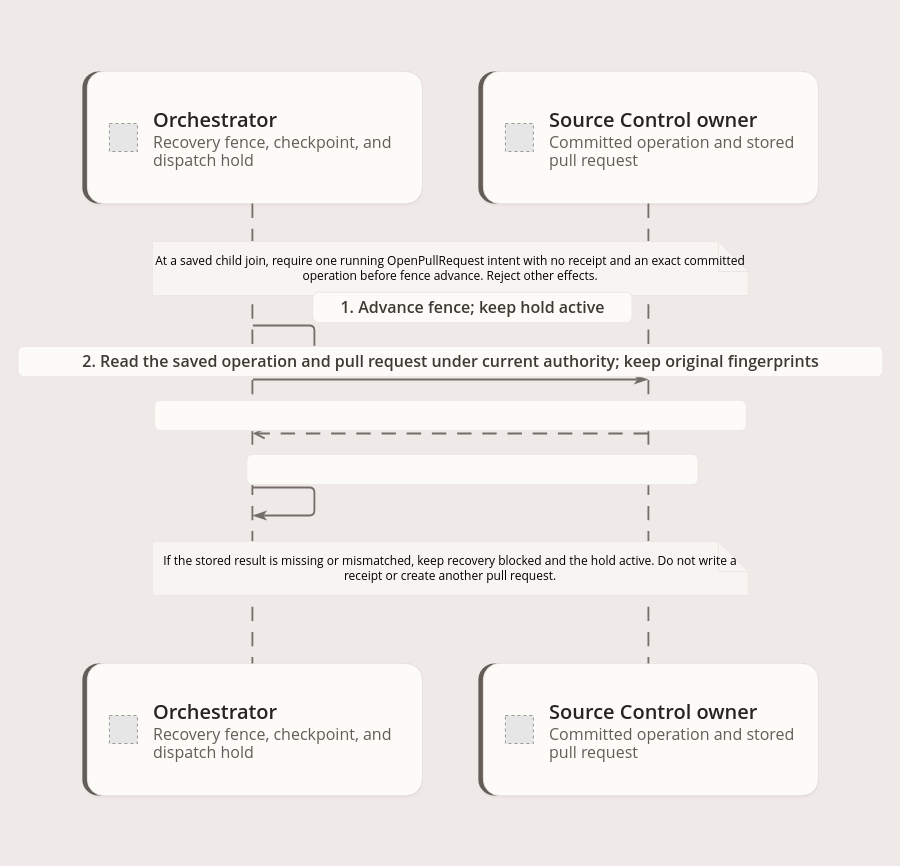
Some shapes in this 900 by 866 pixel diagram are drawn without their labels. Grey dashed boxes stand in for pictures. The shapes that lost their labels are listed below. From the top down, each one's centre as x and y in pixels, then its label:
the point at 449,415: 3. Return the verified stored pull request; do not create another
the point at 472,469: 4. Record original receipt; keep hold until ready
